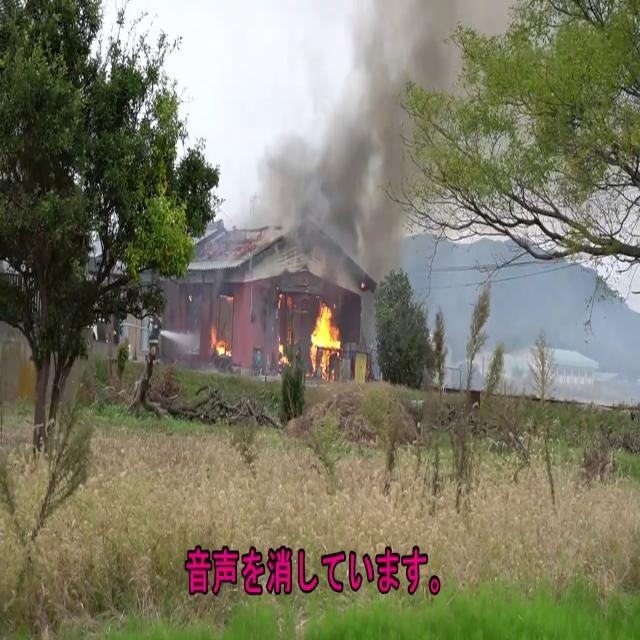Fire: (307, 298, 343, 376), (208, 321, 232, 364)
Smoke: (230, 2, 440, 282)
